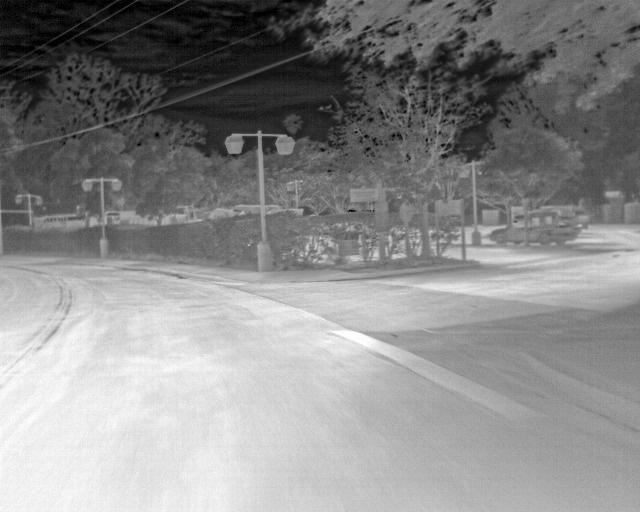car: (529, 213, 578, 246), (491, 217, 528, 247), (579, 208, 592, 231)
